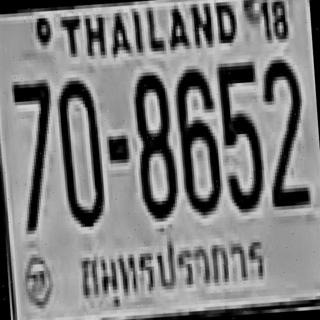N00: (56, 76, 105, 225)
N02: (259, 55, 308, 207)
N05: (217, 58, 263, 210)
N06: (172, 64, 221, 213)
N07: (9, 79, 58, 231)
N08: (132, 67, 178, 216)
P57: (74, 233, 270, 307)
